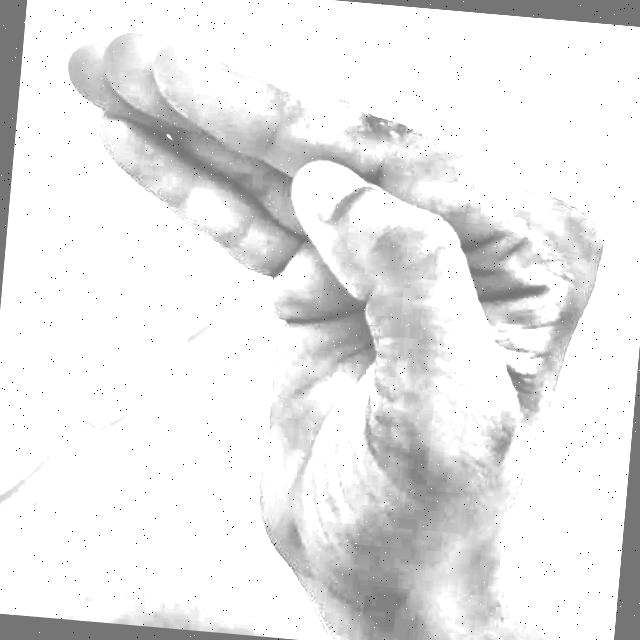Ga: (9, 0, 632, 615)
